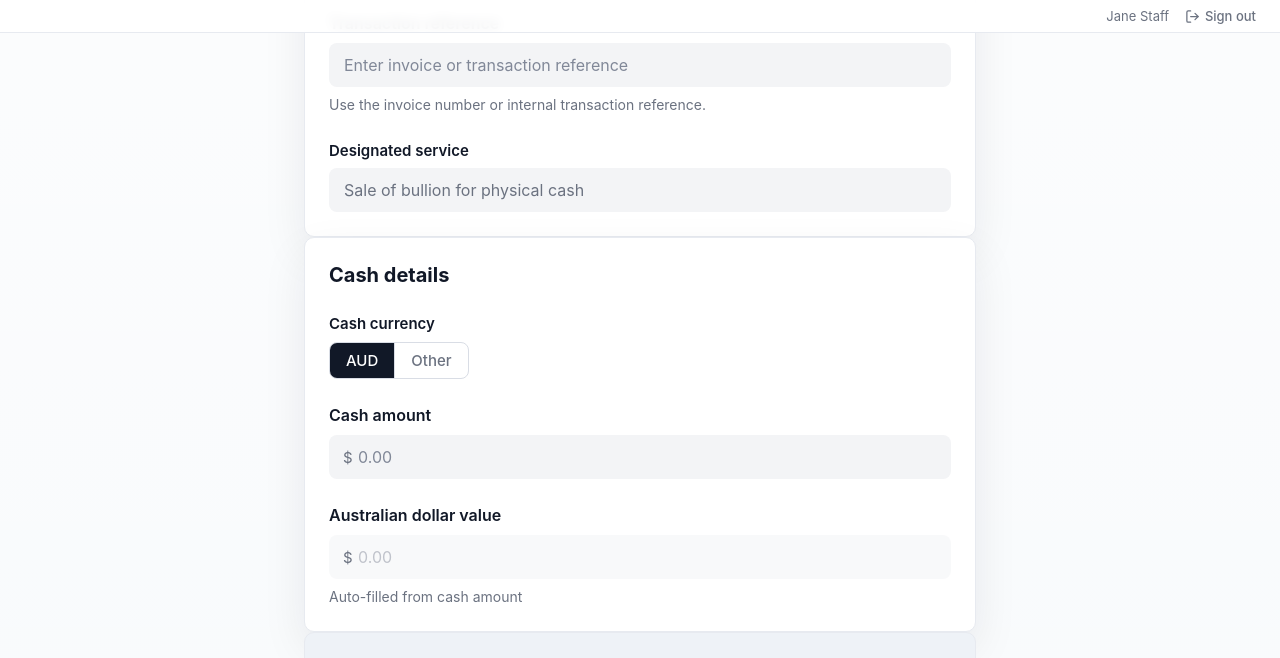
Test: TransactionDetailsPage › reveals all foreign currency fields when currency is switched to Other
(page scrolled)
Click the button "Other".
click(431, 360)  # box [394,343,468,378]
(page scrolled)
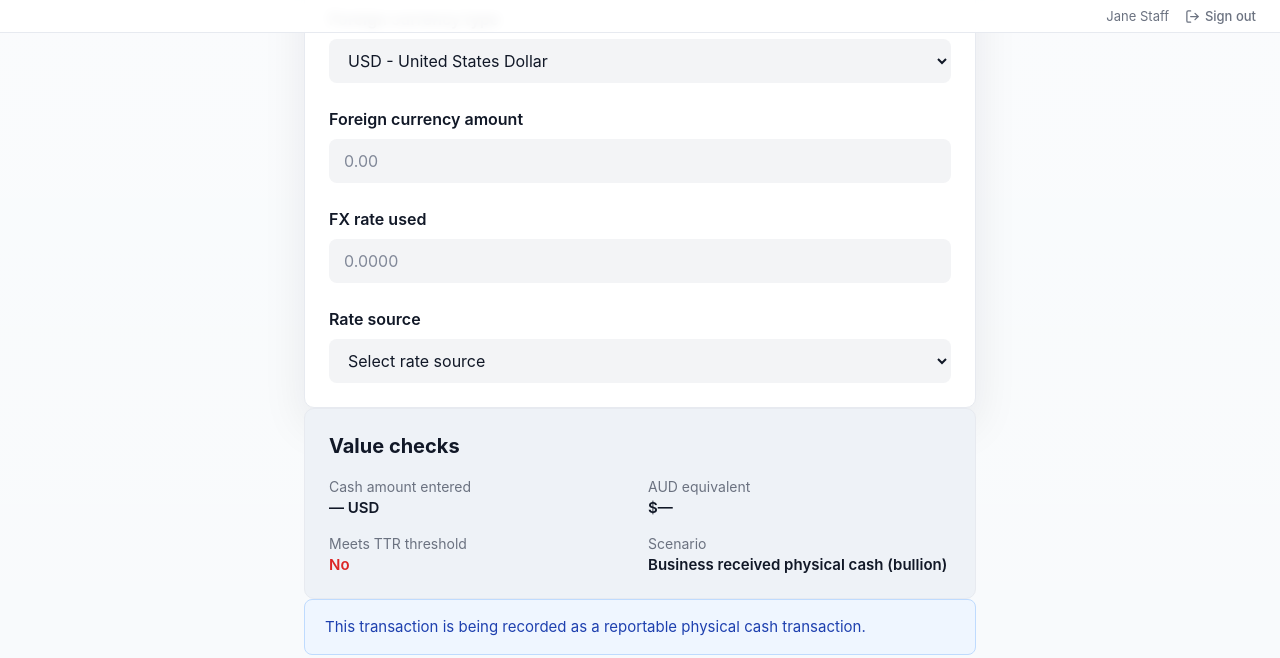
Result: the dropdown labelled "Foreign currency type" is shown at [329,39,951,83]
Result: the number field labelled "Foreign currency amount" is shown at [329,139,951,183]
Result: the number field labelled "FX rate used" is shown at [329,239,951,283]
